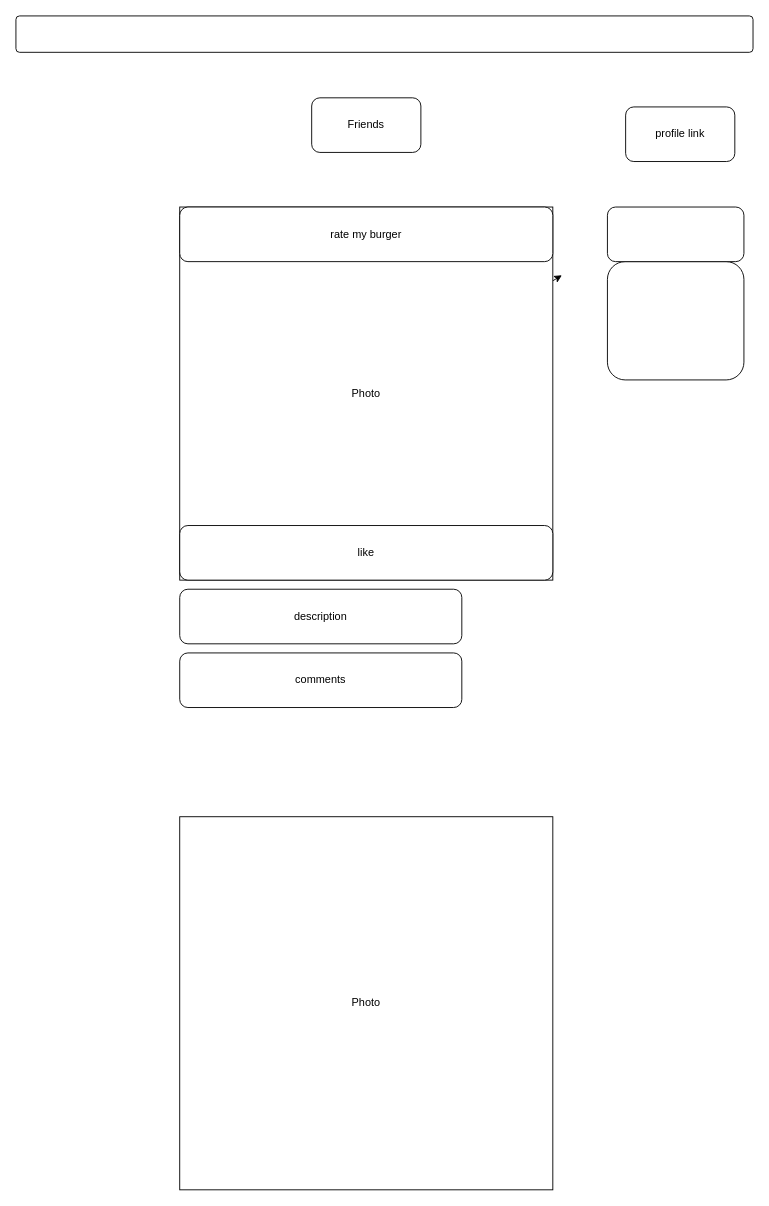
Some shapes in this 769 by 1206 pixel diagram are drawn without their labels. The box of each missing label's shape, as (x1, y1, x2, y2) in pixels:
Friends list: (607, 261, 744, 380)
NavBar: (15, 15, 753, 52)
pending friends: (607, 206, 744, 262)
